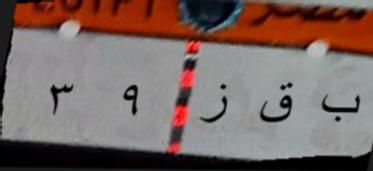3: (44, 75, 78, 122)
9: (118, 78, 144, 120)
baa: (316, 87, 364, 134)
qaaf: (258, 74, 296, 134)
zay: (198, 78, 232, 128)
